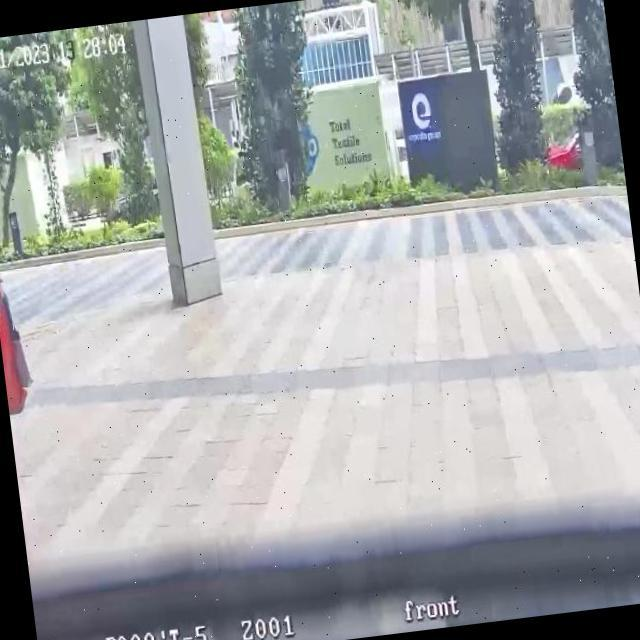person: (0, 127, 34, 532)
